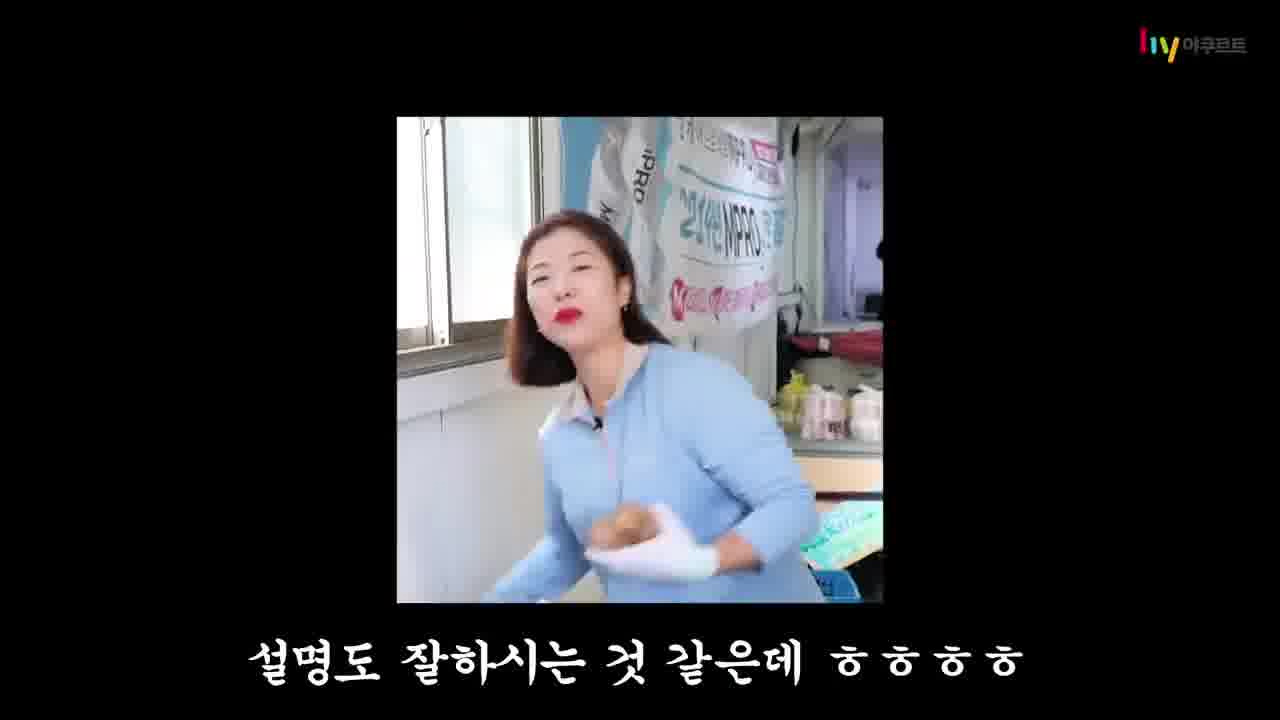Yakurut: (469, 201, 836, 607)
